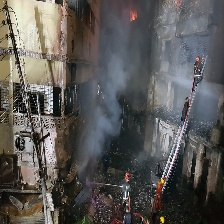fire: (128, 4, 141, 24)
smoke: (73, 43, 133, 176)
